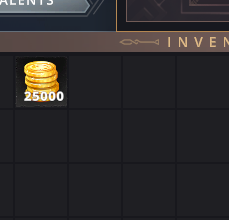gold: (16, 56, 67, 107)
